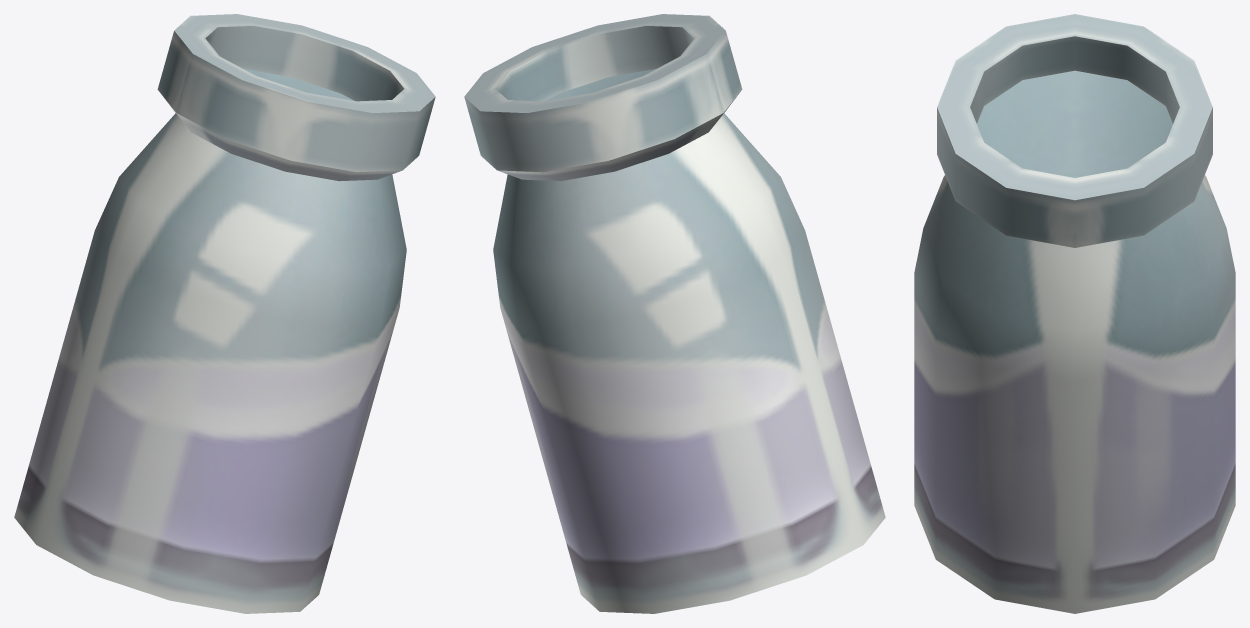
File: scenes_common_tools06.FBX
The picture shows the model from 3 angles, left to right: view 1: azimuth 30°, elevation 25°; view 2: azimuth 150°, elevation 25°; view 3: azimuth 270°, elevation 25°; orthographic projection.
Parts seen in each view (by area): view 1: scenes_common_tools06; view 2: scenes_common_tools06; view 3: scenes_common_tools06.
Part boxes in pixels (box(x1,y1,x2,y2)): scenes_common_tools06: box(14, 14, 435, 613); scenes_common_tools06: box(464, 14, 885, 613); scenes_common_tools06: box(914, 14, 1235, 613).
Size of the model in its own units: 61.1 by 82.65 by 43.91.
